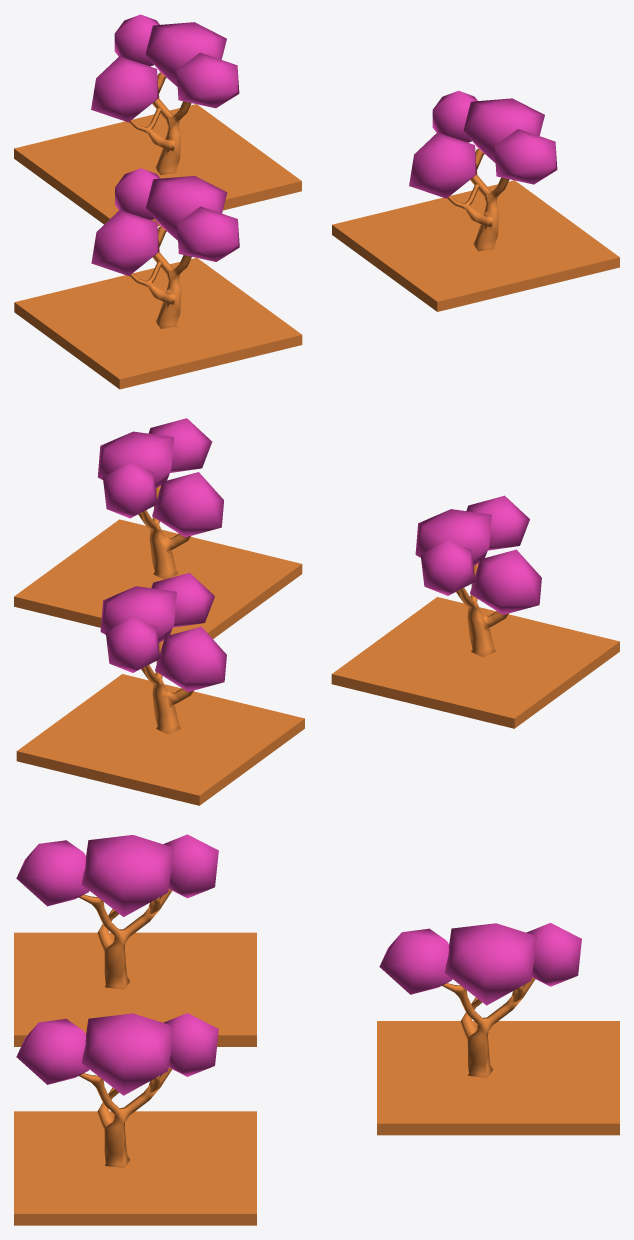
Rendered from park.fbx.
3 renders of one model, top to bottom at view 1: azimuth 30°, elevation 25°; view 2: azimuth 150°, elevation 25°; view 3: azimuth 270°, elevation 25°, orthographic. The views are drawn at different scales.
Visible parts, largest first — view 1: Cube.001; view 2: Cube.001; view 3: Cube.001.
Boxes of the visible parts, x1,y1,x2,y2 form: Cube.001: (14,14,619,389); Cube.001: (14,418,619,805); Cube.001: (14,834,619,1225).
Size of the model in its own units: 1881 by 518 by 1713.
